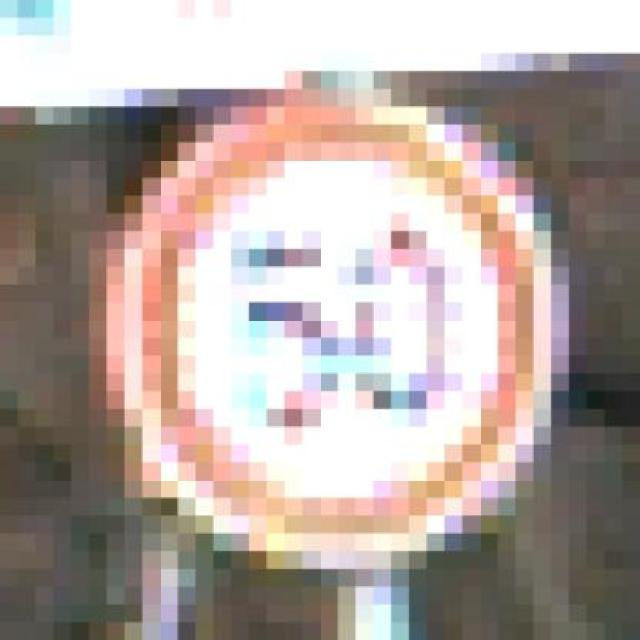50 mph speed limit: (89, 89, 586, 569)
